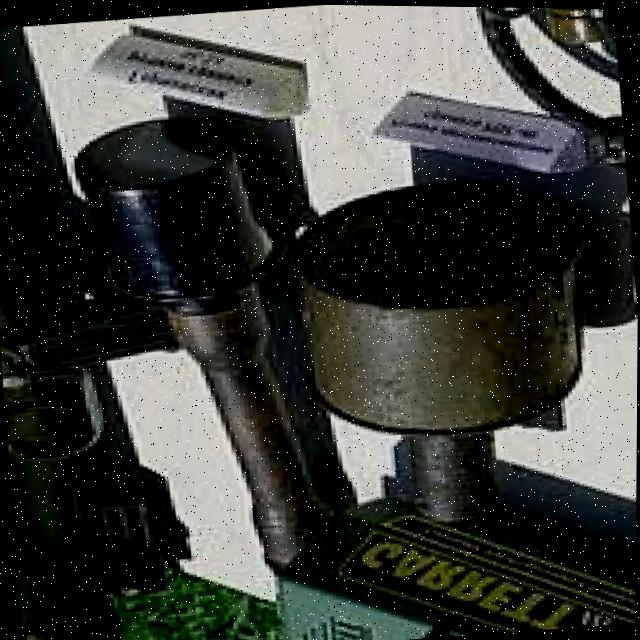grenade: (47, 102, 374, 597), (273, 169, 610, 559)
